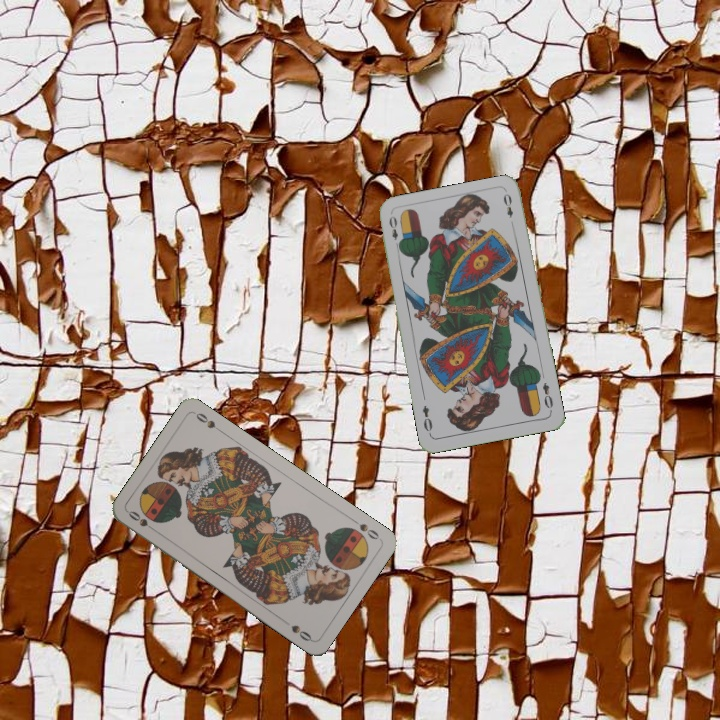EO: (385, 212, 404, 252), (538, 378, 556, 414)
SO: (124, 506, 160, 535), (348, 514, 382, 542)
